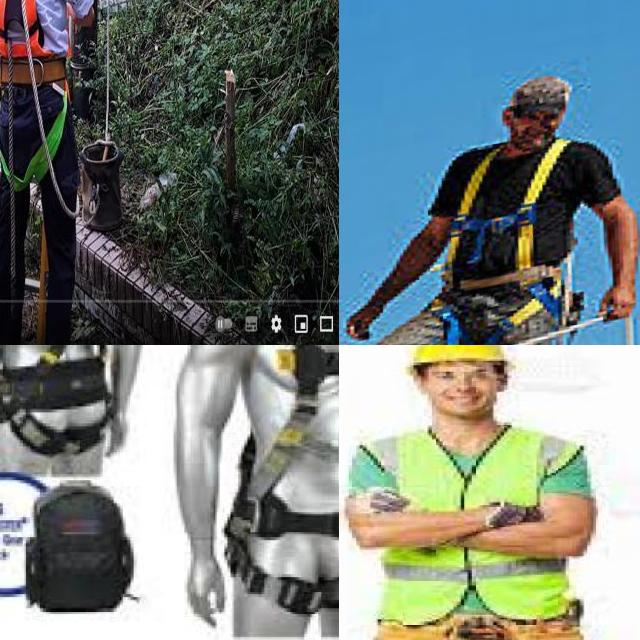Harness: (222, 345, 339, 617), (447, 139, 573, 288), (0, 0, 68, 201), (0, 345, 126, 452)
